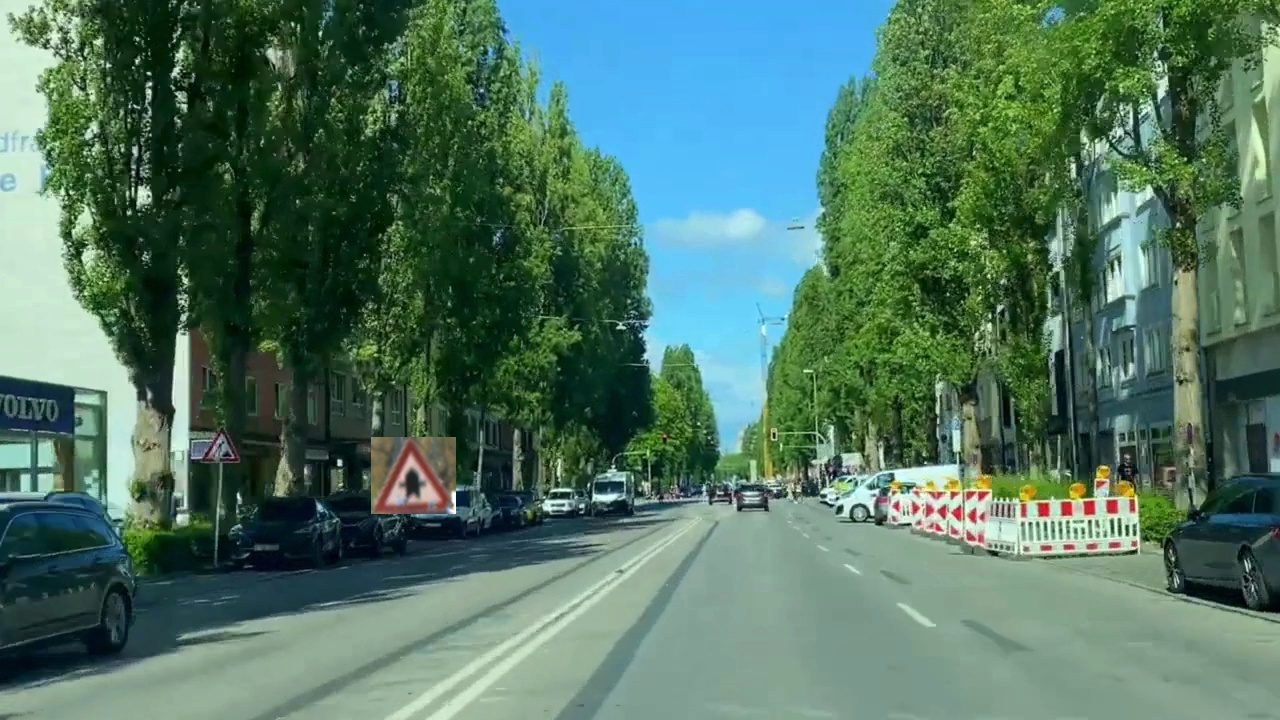Right-of-way: (371, 437, 456, 514)
